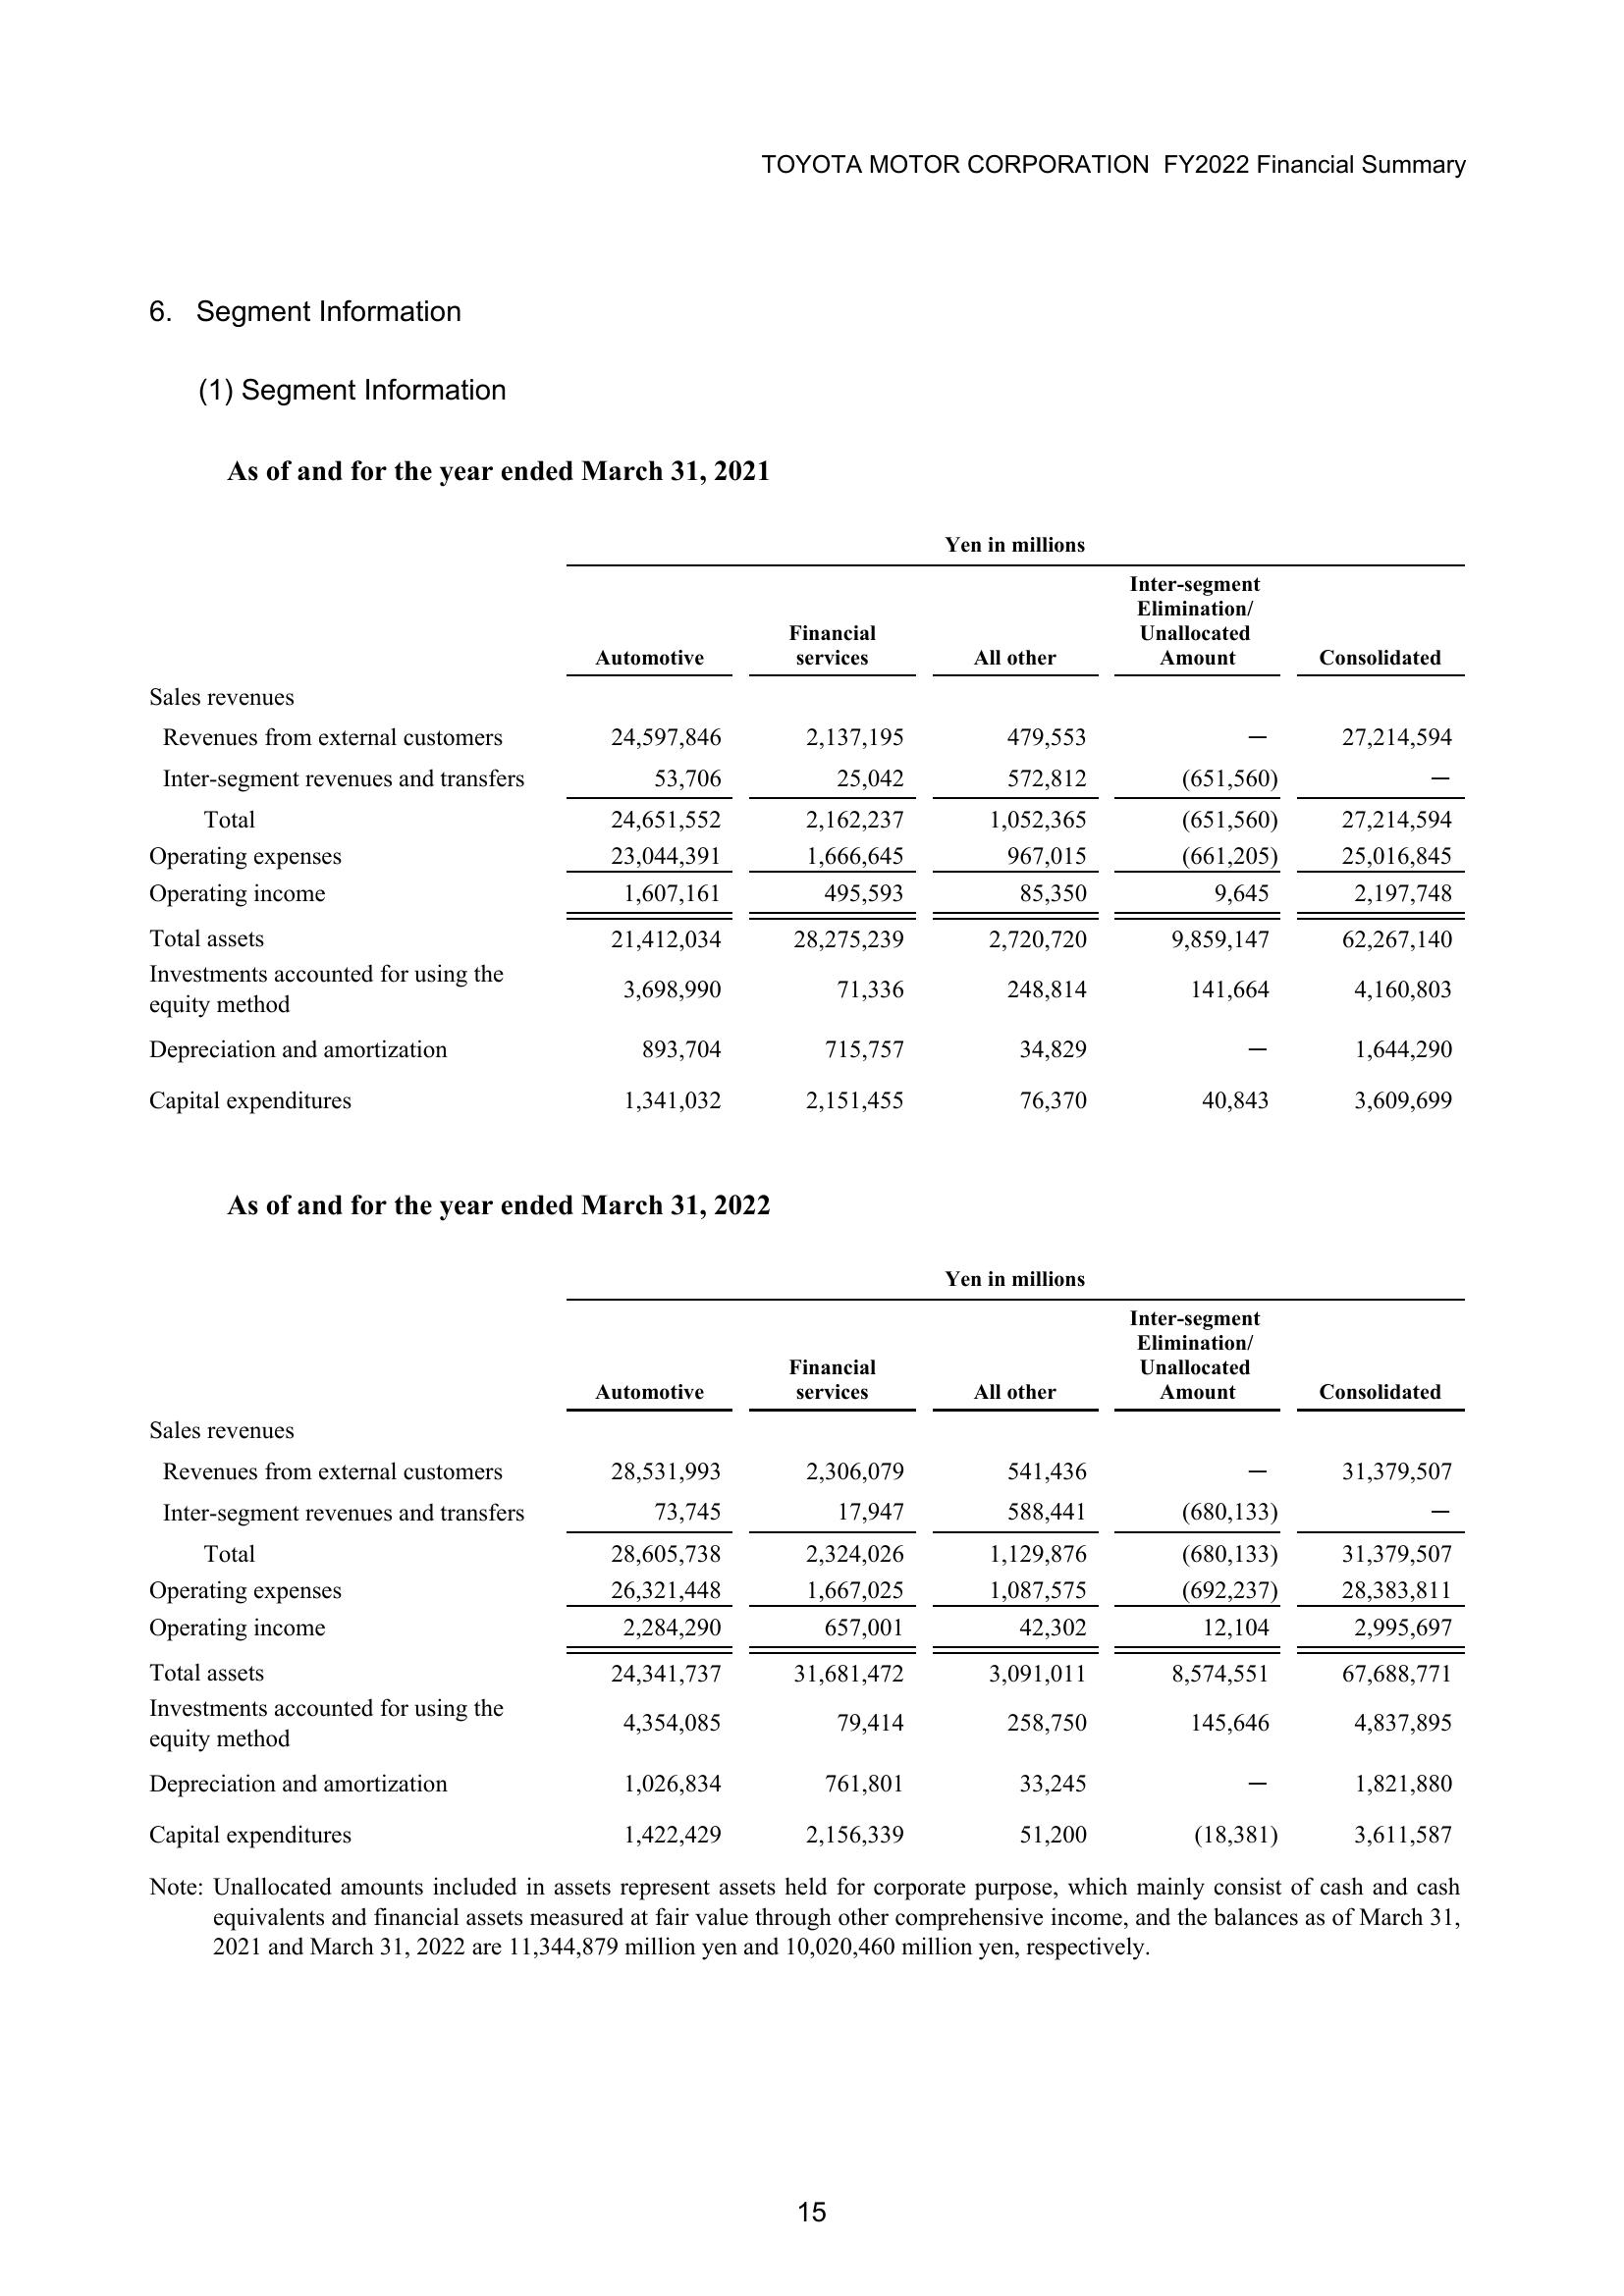Footer: (0, 2184, 1624, 2296)
Header: (0, 0, 1624, 202)
Table: (46, 1258, 1483, 1853), (74, 515, 1469, 1128)
